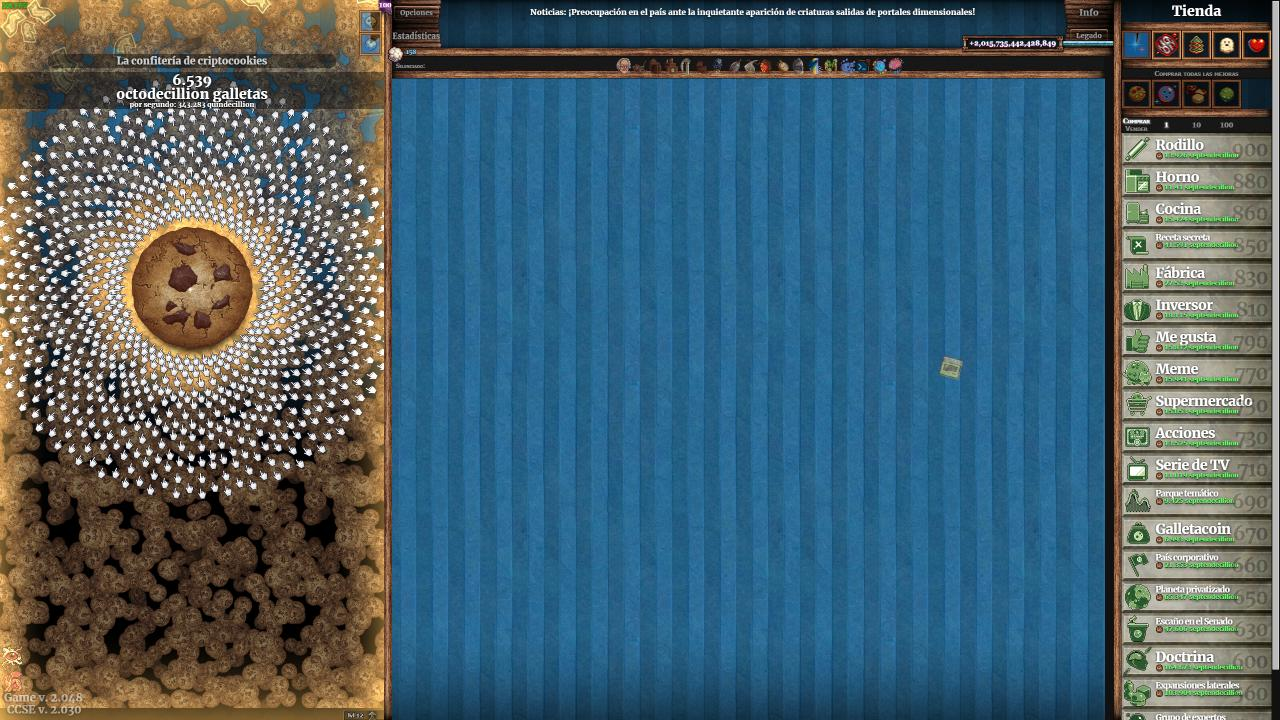GoldenCartridge: (939, 354, 965, 380)
